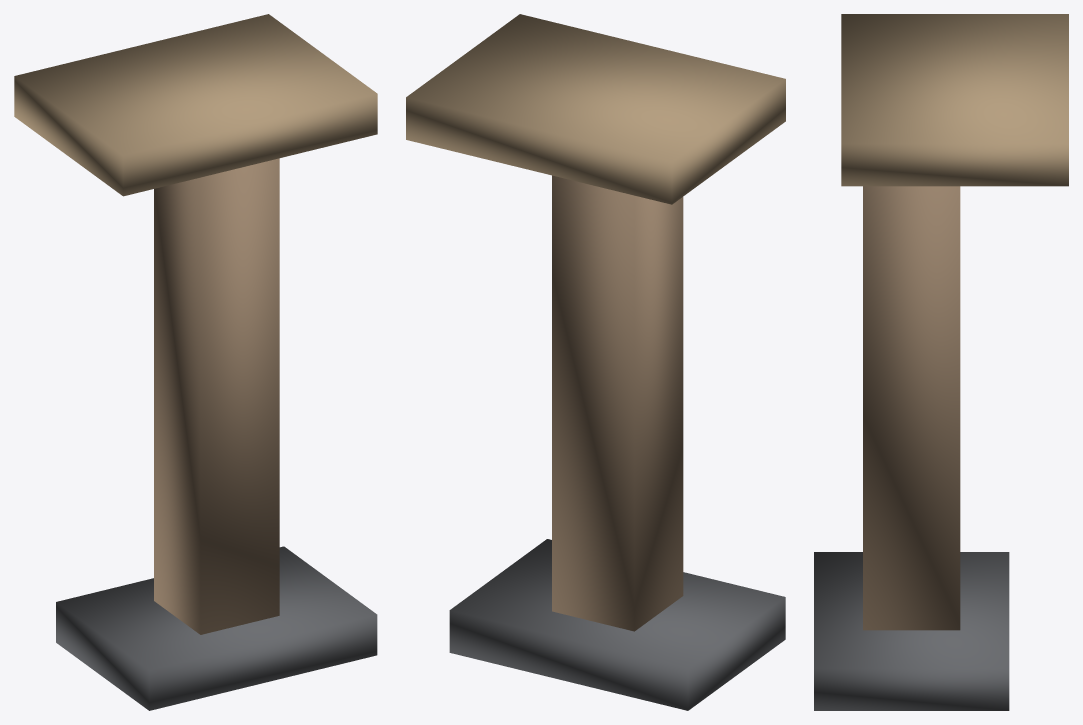
File: lectern__compact.glb
3 renders of one model, left to right at view 1: azimuth 30°, elevation 25°; view 2: azimuth 150°, elevation 25°; view 3: azimuth 270°, elevation 25°, orthographic. The views are drawn at different scales.
Visible parts, largest first — view 1: world; view 2: world; view 3: world.
Part boxes in pixels (box(x1,y1,x2,y2)): world: box(14, 14, 377, 710); world: box(406, 14, 785, 710); world: box(814, 14, 1068, 710).
Bounding box in the file's own units: 0.4872 × 1 × 0.4042.
